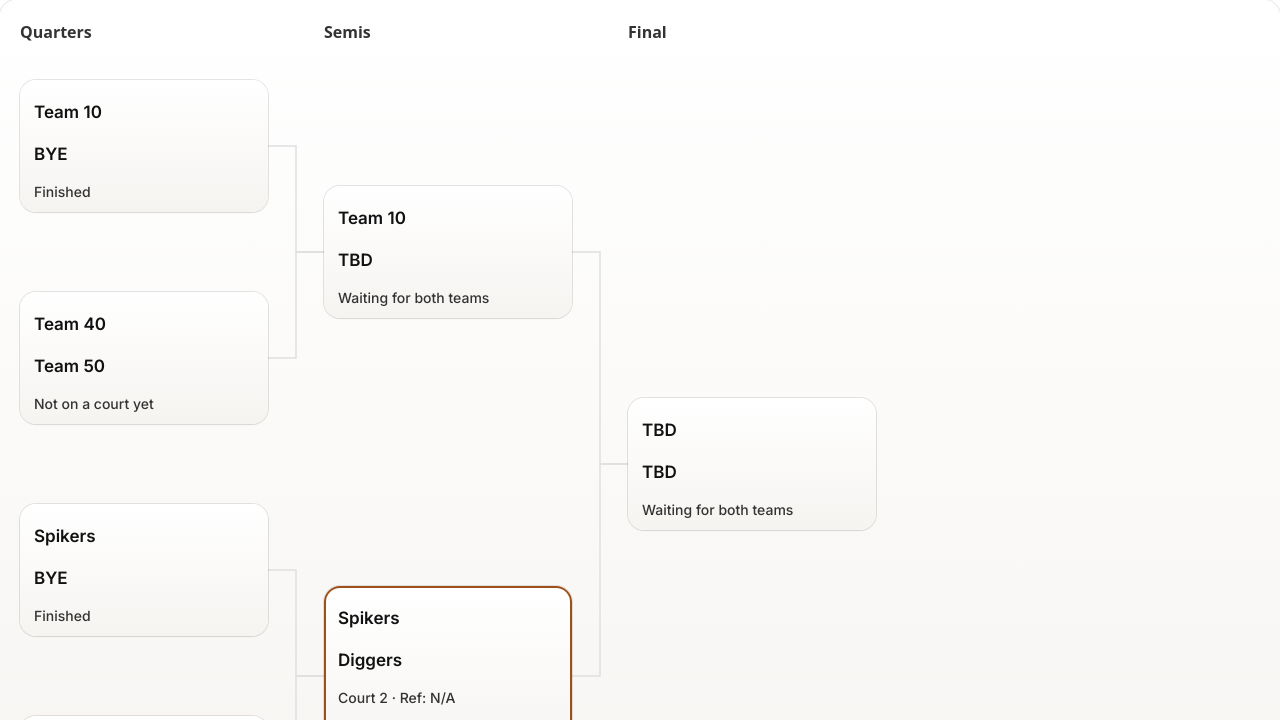
signed out, a match opens with its court but no tools
Click the button with aria-label "Semis · match 2: Spikers vs Diggers". click: (448, 639)
box: [328, 590, 568, 688]
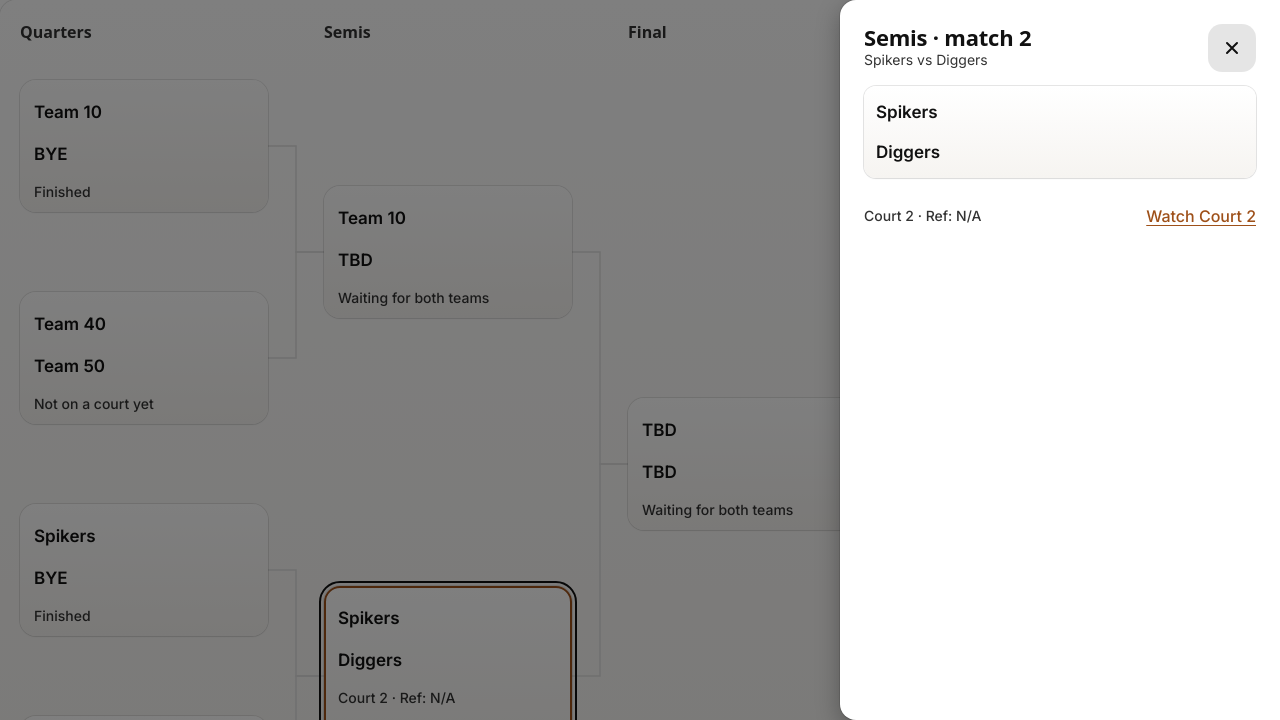
Result: the link "Watch Court 2" is shown at [1146, 206, 1256, 226]
